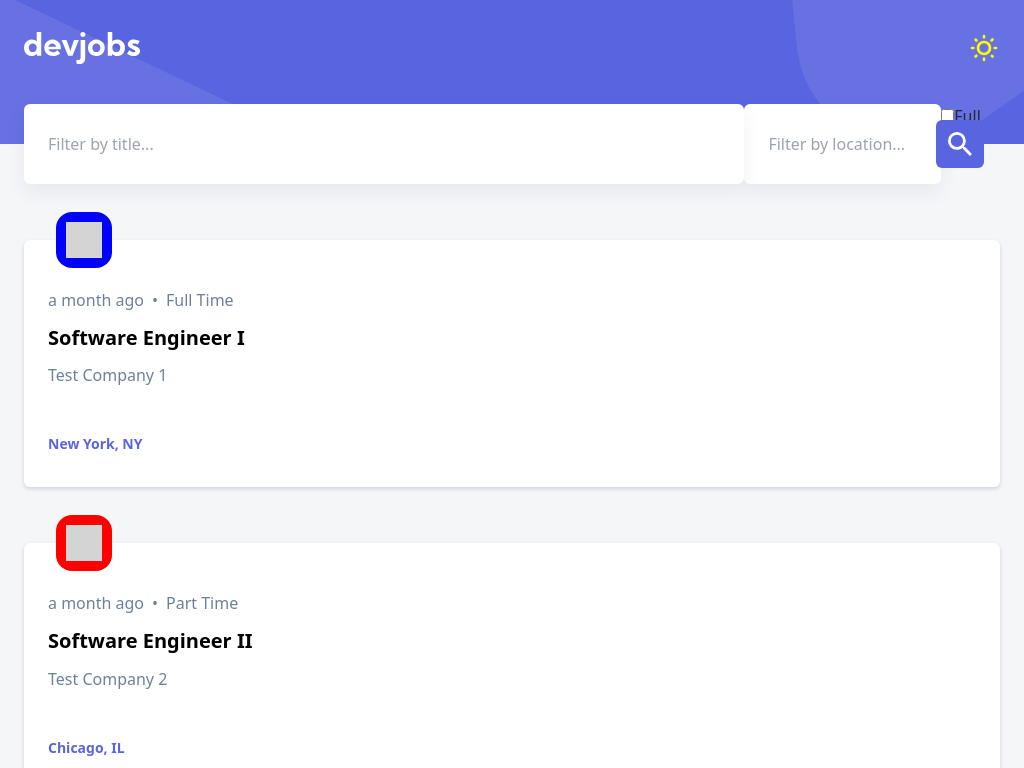
Test case: Home › updates the job list based on search parameters
// Interact with the search bar and trigger a search
Type "Software Engineer I" into the field with placeholder "Filter by title..." at (384, 144), box 24,104 -> 744,184
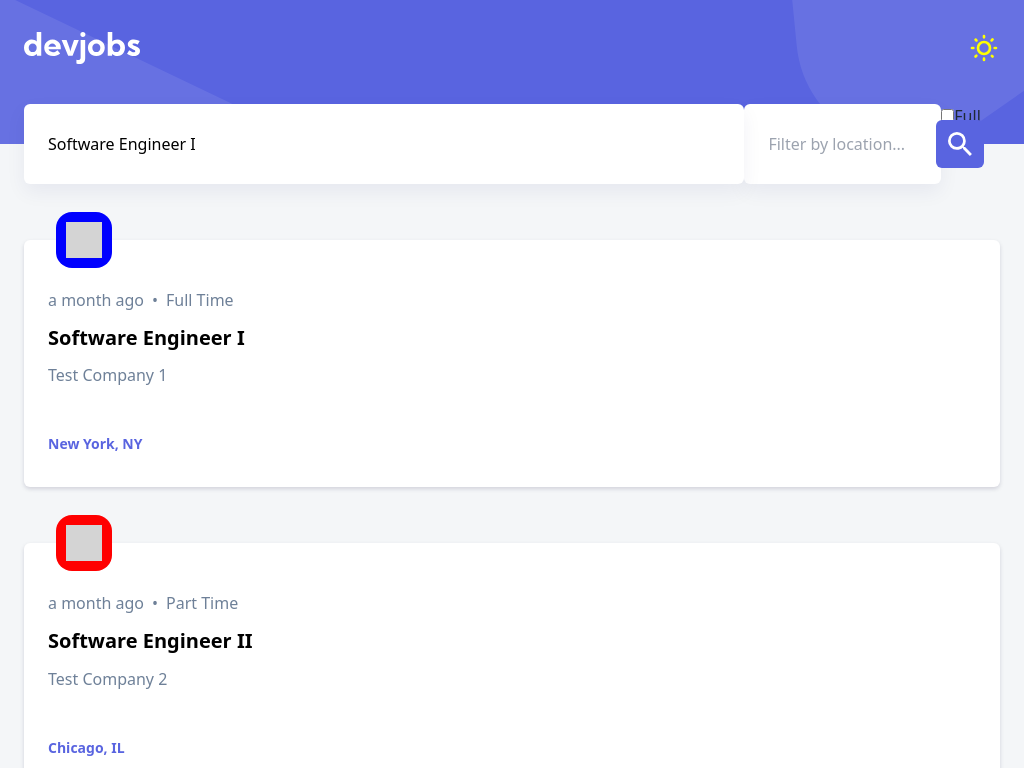
// Click the search button
Click the button with test id "search-button" at (960, 144), box 936,120 -> 984,168
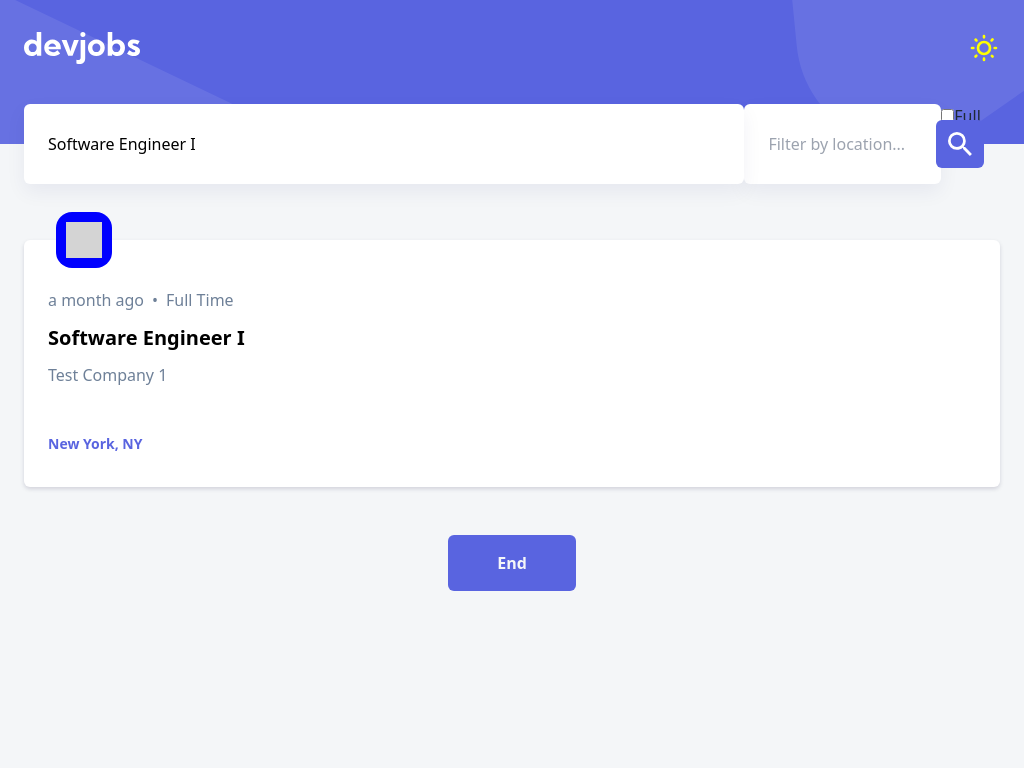
Now the number of elements with test id "job-card" is 1, box 24,240 -> 1000,488
